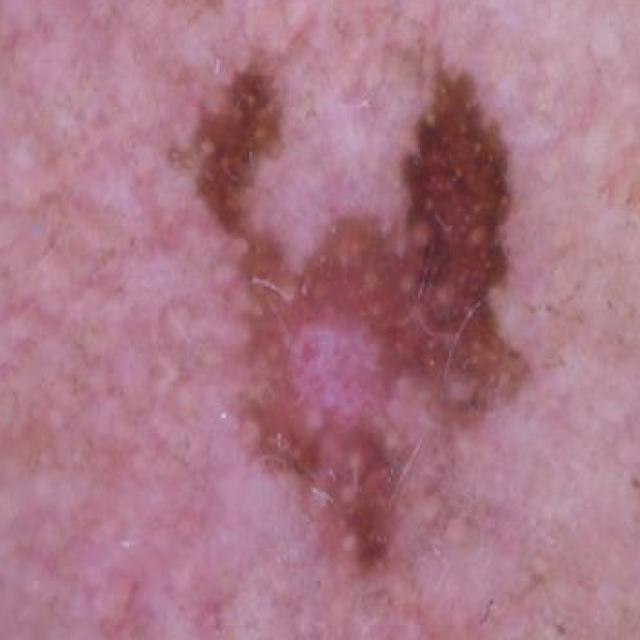BKL: (104, 13, 606, 562)
